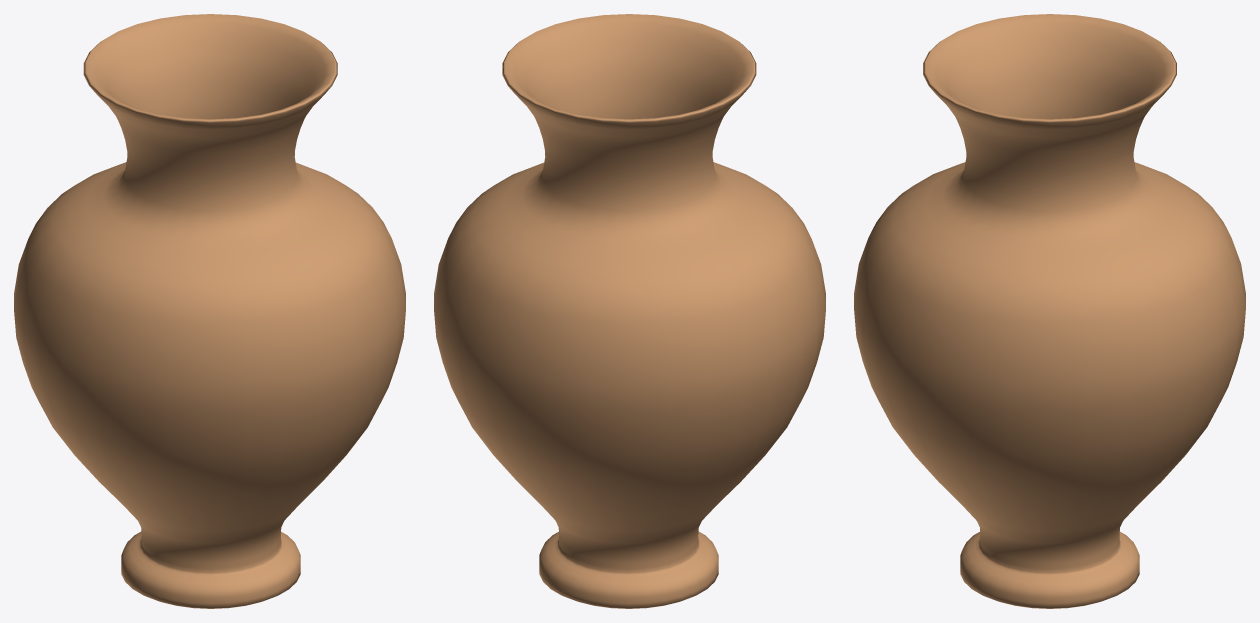
Rendered from AlekVase.fbx.
The picture shows the model from 3 angles, left to right: view 1: azimuth 30°, elevation 25°; view 2: azimuth 150°, elevation 25°; view 3: azimuth 270°, elevation 25°; orthographic projection.
Visible parts, largest first — view 1: pCylinder1; view 2: pCylinder1; view 3: pCylinder1.
Boxes of the visible parts, x1,y1,x2,y2 form: pCylinder1: (14,14,405,608); pCylinder1: (434,14,825,608); pCylinder1: (854,14,1245,608).
Bounding box in the file's own units: 1.31 × 1.87 × 1.31.
